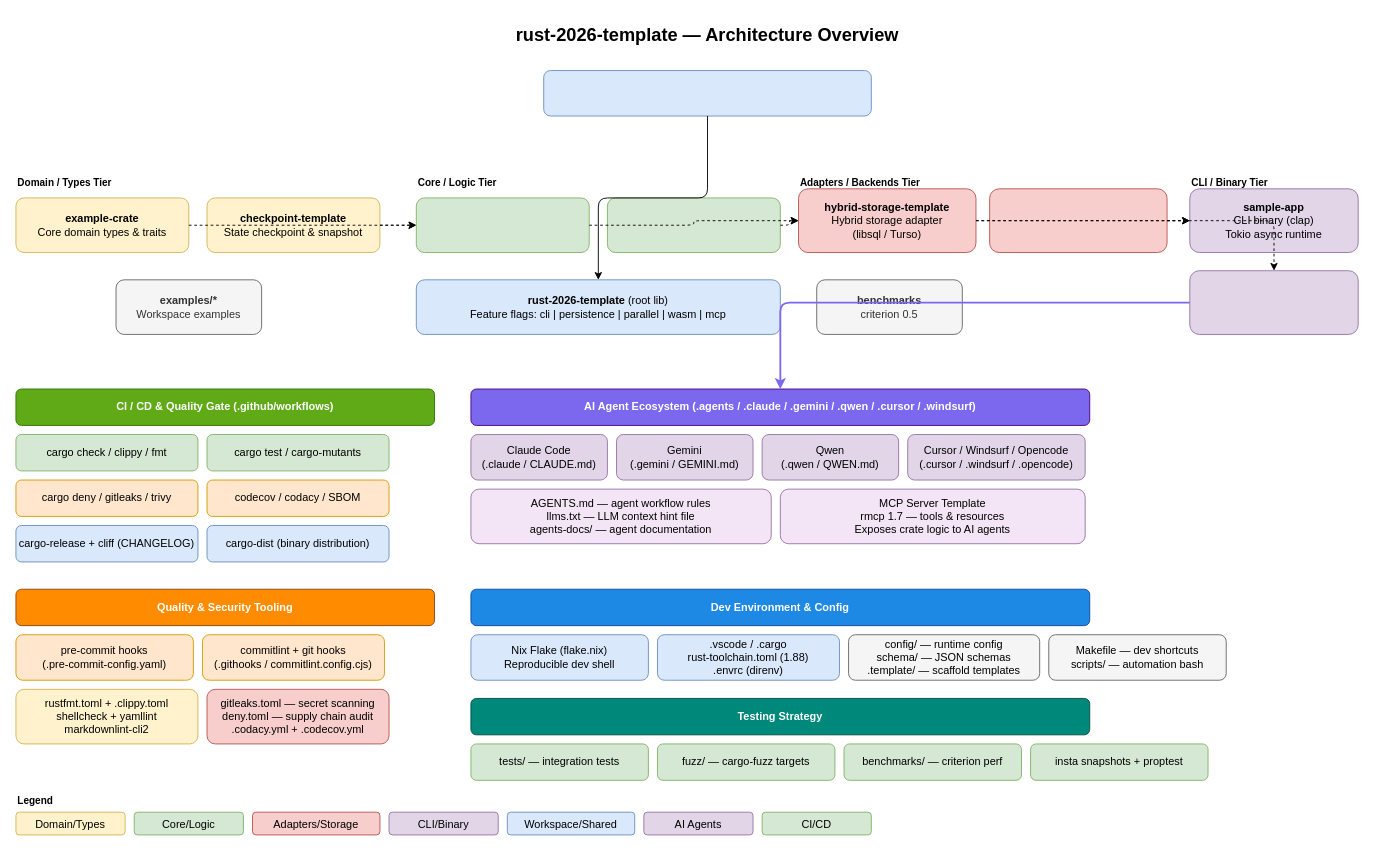
The diagram is 1374 pixels wide and 851 high, and some of its shapes have lost their labels. The shapes that lost their labels are listed below. From the top down, each one's centre as x and y in pixels, then its label:
At (x=707, y=93): "Cargo Workspace Root".
At (x=502, y=225): "actor-runtime-template Actor model runtime".
At (x=693, y=225): "example-registry-pattern Service registry pattern".
At (x=1078, y=220): "example-storage-pattern Storage trait impls".
At (x=1273, y=302): "mcp-server-template MCP server (rmcp 1.7) JSON-RPC tools/resources".
